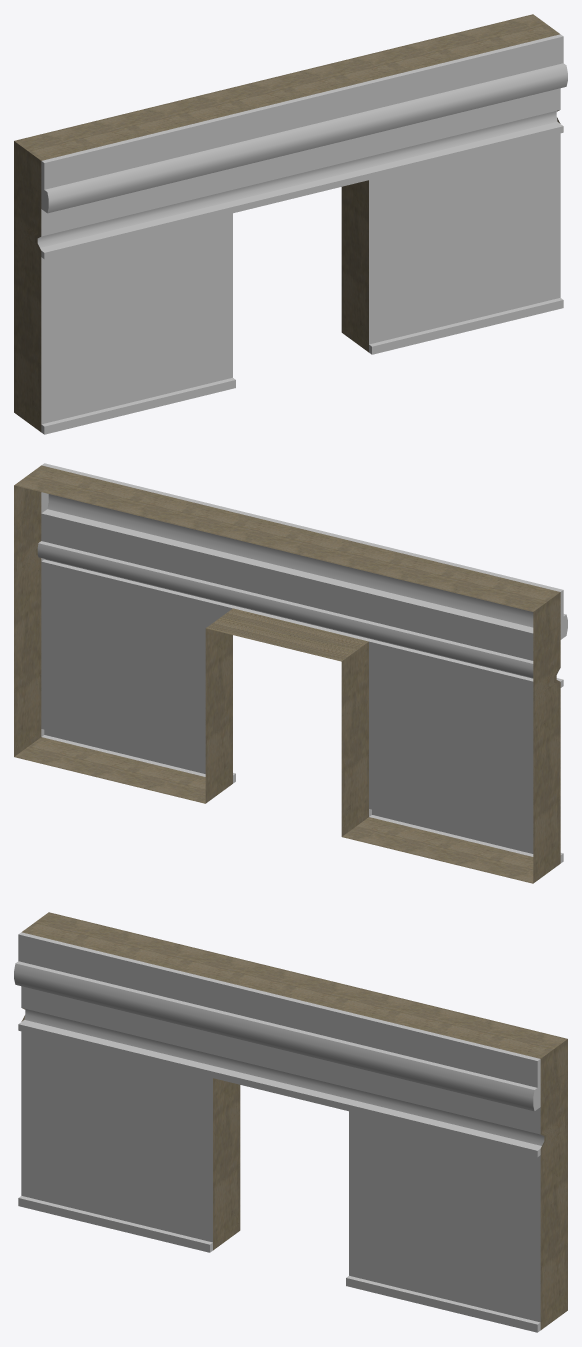
Rendered from Wall_4.FBX.
3 views of the same model, one above another, from view 1: azimuth 30°, elevation 25°; view 2: azimuth 150°, elevation 25°; view 3: azimuth 330°, elevation 25° (orthographic).
Visible parts, largest first — view 1: Wall_4; view 2: Wall_4; view 3: Wall_4.
Boxes of the visible parts, left/top/right/bottom form: Wall_4: left=14, top=14, right=567, bottom=434; Wall_4: left=14, top=463, right=567, bottom=883; Wall_4: left=14, top=912, right=567, bottom=1332.
Size of the model in its own units: 10 by 5 by 1.16.
